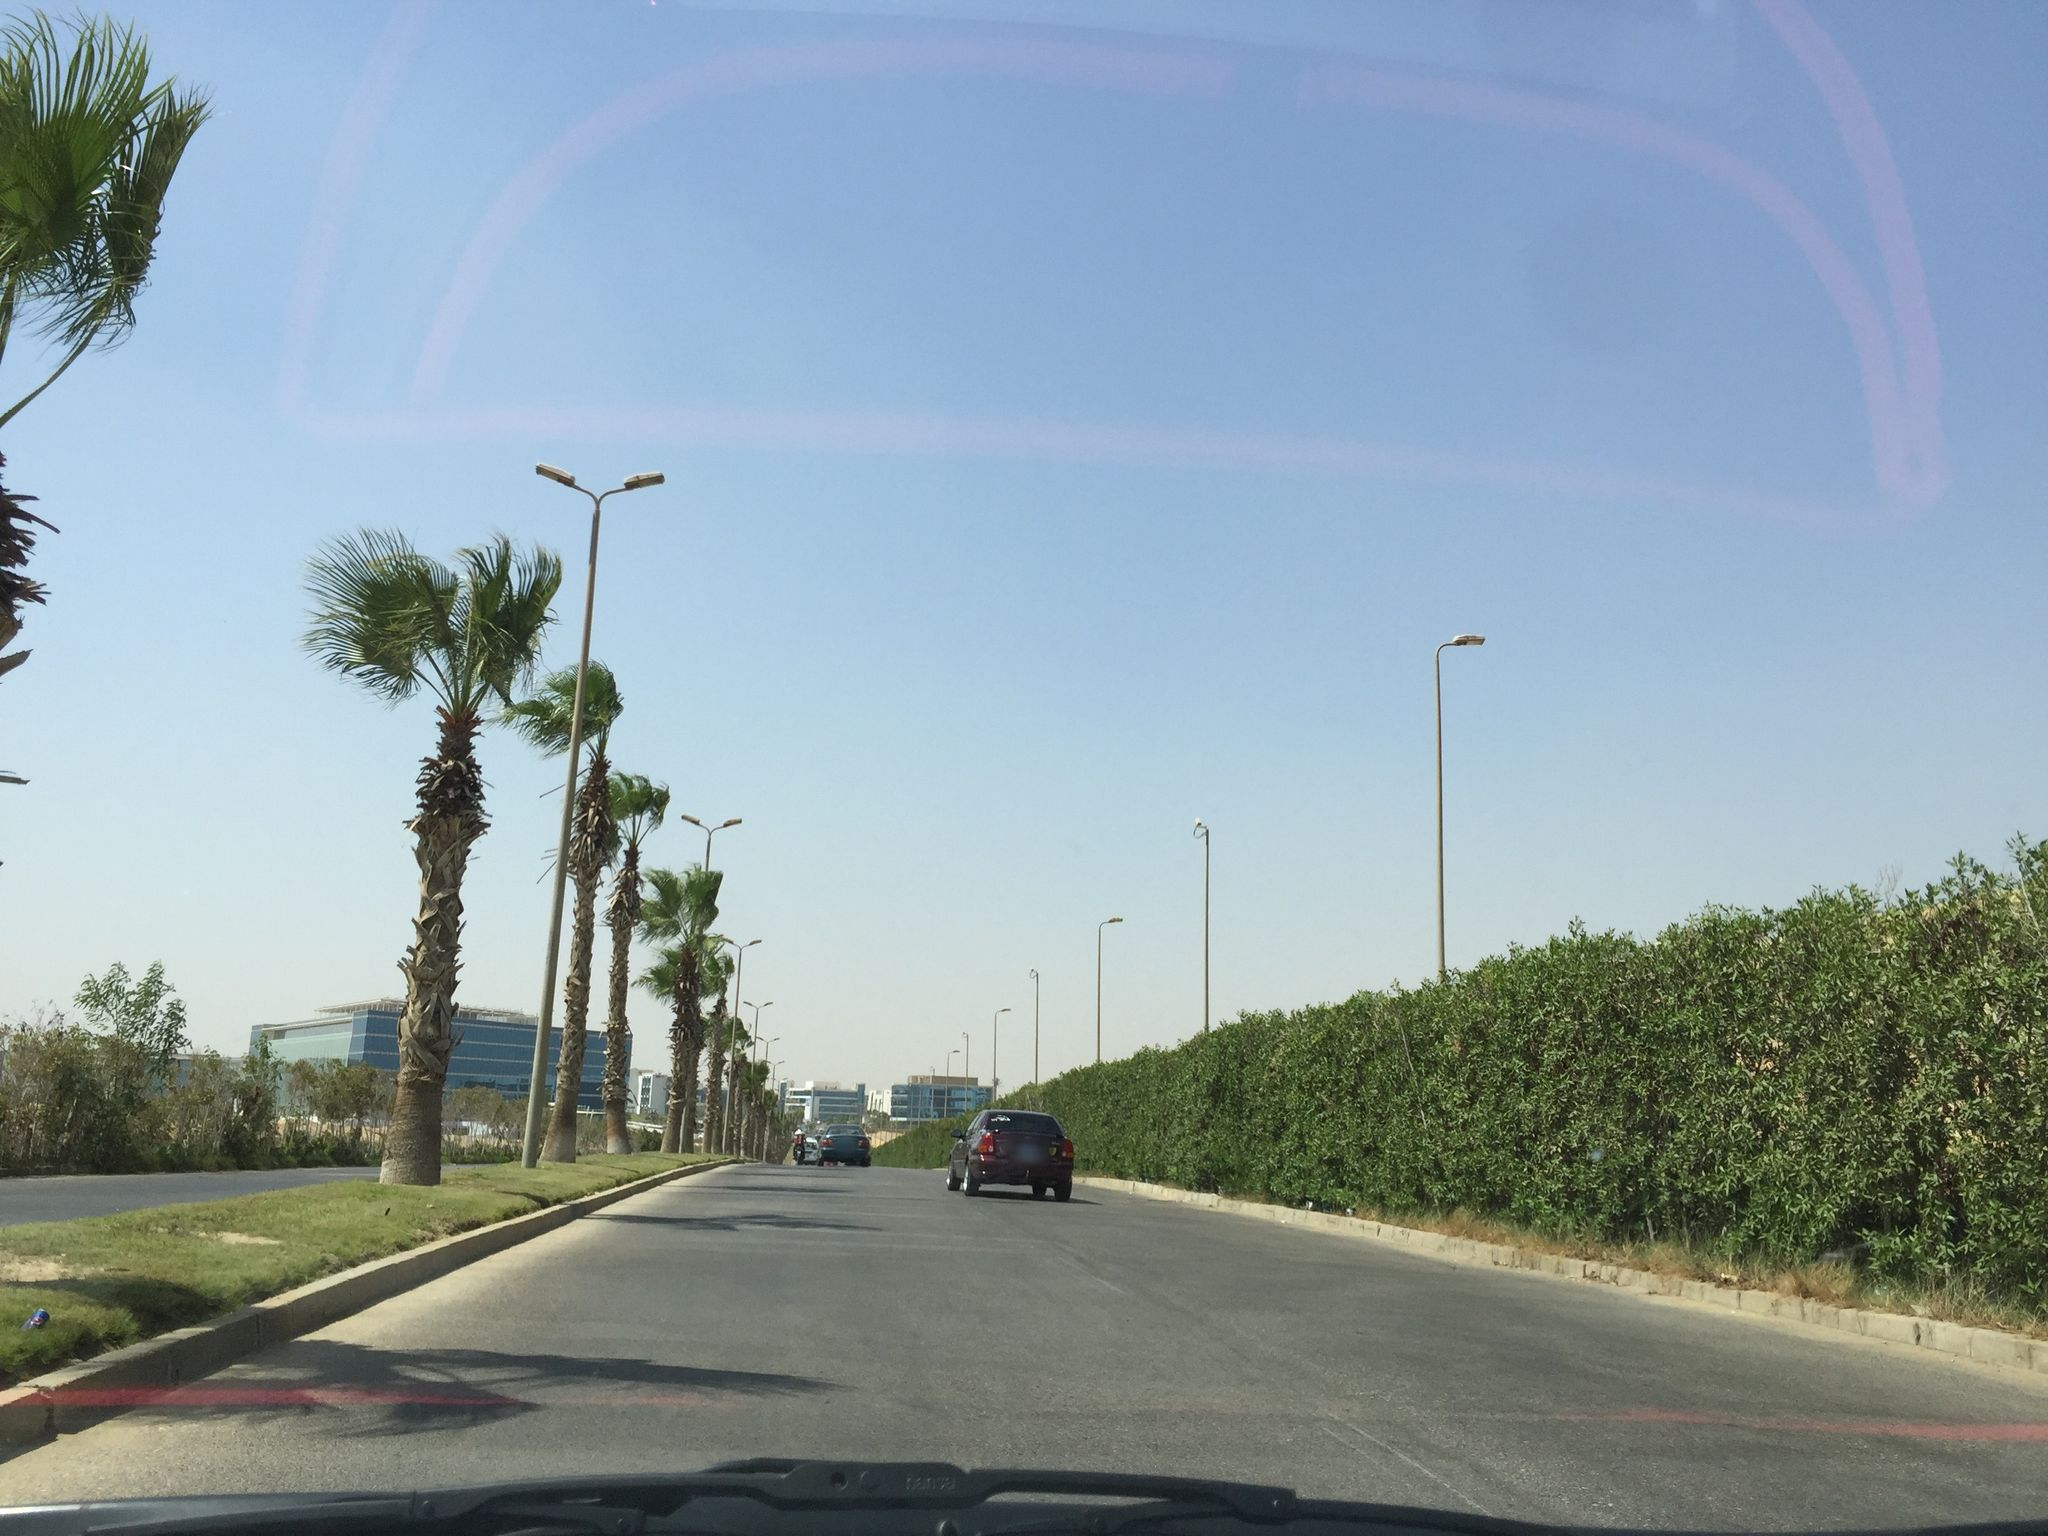car: (947, 1107, 1076, 1200), (813, 1123, 871, 1167), (800, 1136, 819, 1163)
motorcycle: (792, 1139, 806, 1163)
